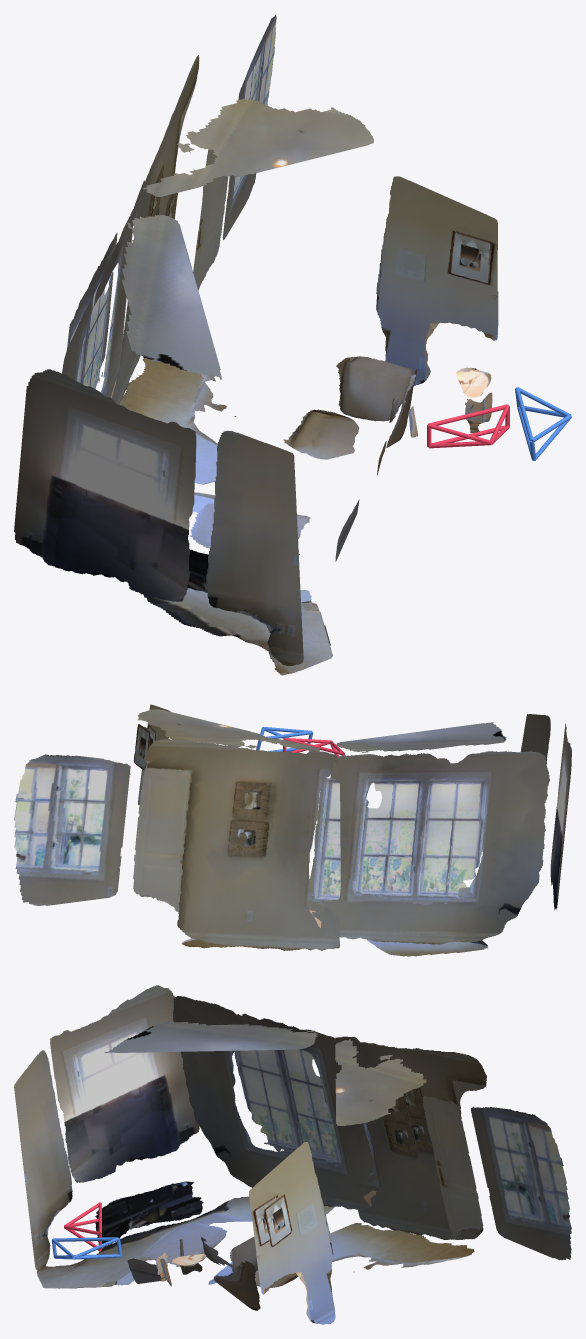
File: pred.glb
3 renders of one model, top to bottom at view 1: azimuth 30°, elevation 25°; view 2: azimuth 150°, elevation 25°; view 3: azimuth 270°, elevation 25°, orthographic. The views are drawn at different scales.
Parts seen in each view (by area): view 1: Node; view 2: Node; view 3: Node.
Boxes of the visible parts, x1,y1,x2,y2 form: Node: (14, 14, 571, 675); Node: (14, 704, 571, 956); Node: (14, 985, 571, 1324).
Size of the model in its own units: 5.36 by 3.58 by 6.33.
28 materials, 26 textured.
